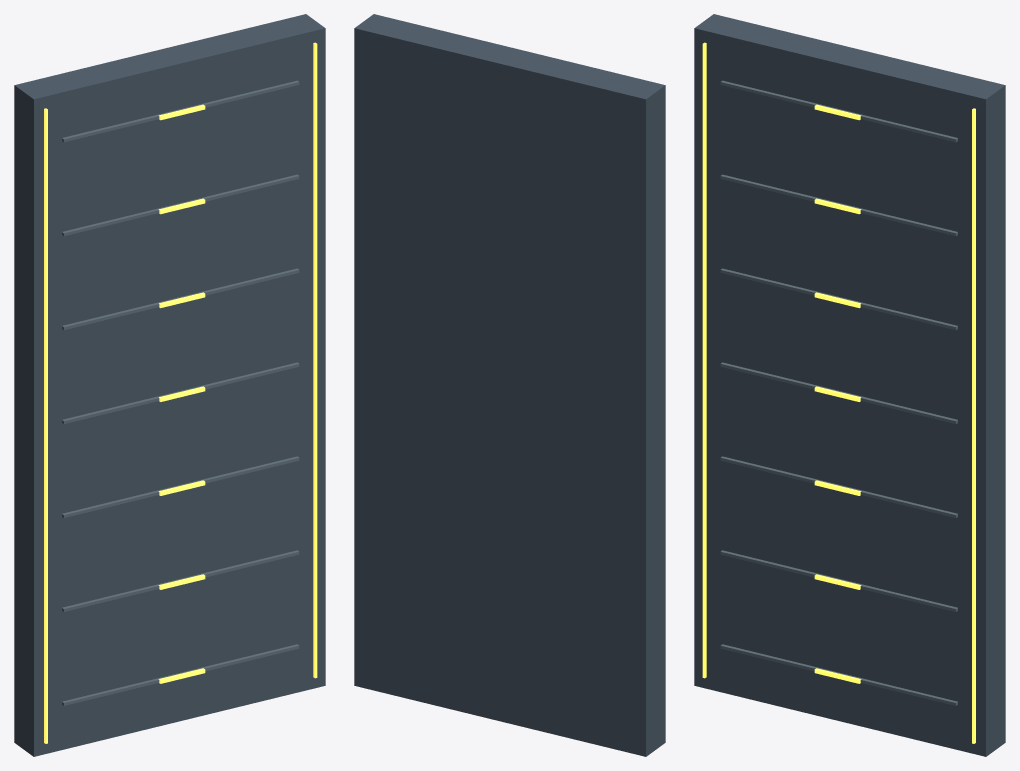
File: gate_leaf.glb
3 renders of one model, left to right at view 1: azimuth 30°, elevation 25°; view 2: azimuth 150°, elevation 25°; view 3: azimuth 330°, elevation 25°, orthographic.
Visible parts, largest first — view 1: gate_leaf; view 2: gate_leaf; view 3: gate_leaf.
Part boxes in pixels (x1,y1,x2,y2): gate_leaf: [14, 14, 325, 756]; gate_leaf: [354, 14, 665, 756]; gate_leaf: [694, 14, 1005, 756].
Size of the model in its own units: 26 by 56 by 3.5.
